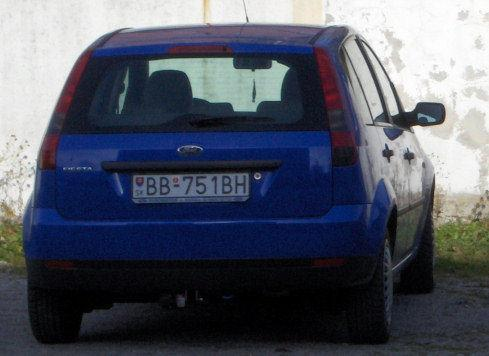placa de veiculo: (127, 166, 271, 214)
